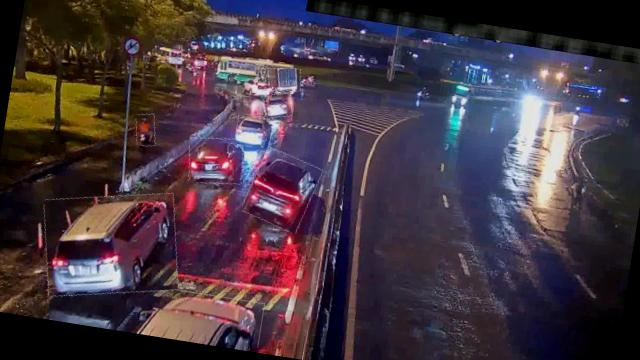Bike: (132, 112, 158, 148)
Car: (35, 180, 188, 308), (137, 284, 265, 348), (243, 147, 321, 233), (185, 133, 247, 188), (232, 112, 274, 150), (260, 91, 294, 120), (242, 78, 273, 100)
Truck: (256, 64, 302, 95)
